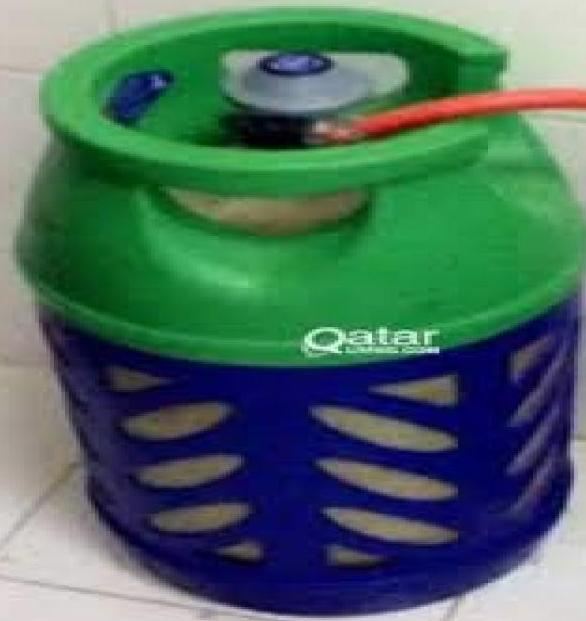cylinder: (0, 1, 586, 621)
